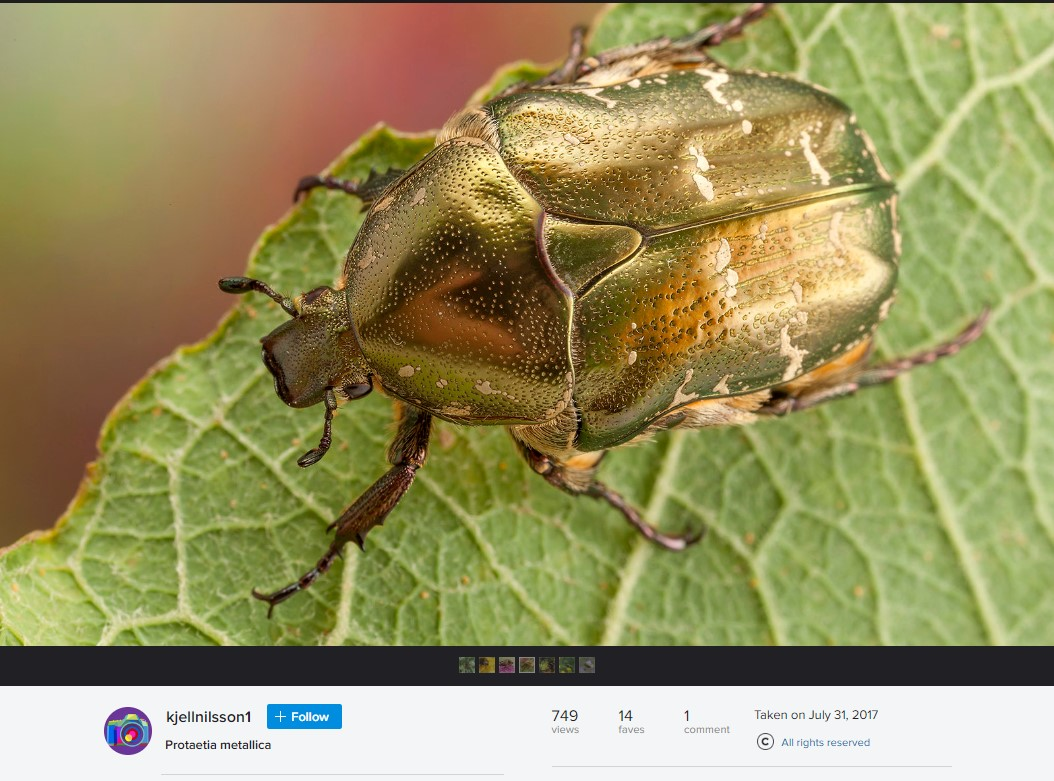Protaetia_metallica: (226, 8, 974, 592)
